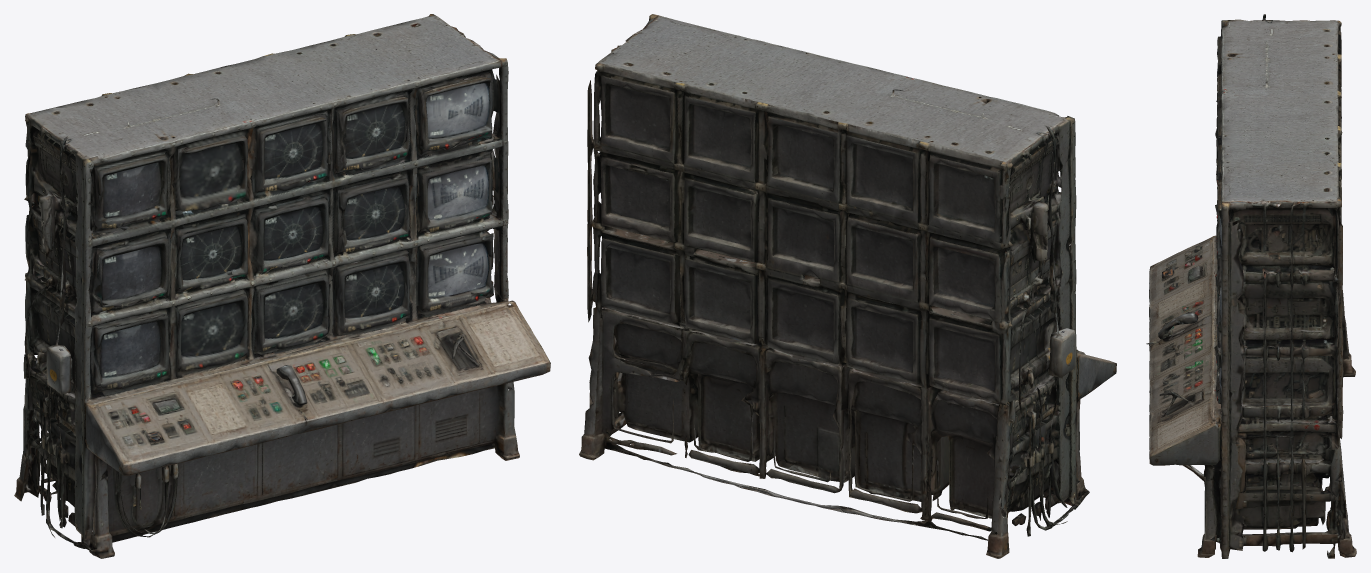
File: BKI_CCTVWall.fbx
3 views of the same model, side by side, from view 1: azimuth 30°, elevation 25°; view 2: azimuth 150°, elevation 25°; view 3: azimuth 270°, elevation 25° (orthographic). The views are drawn at different scales.
Visible parts, largest first — view 1: texture_mapping; view 2: texture_mapping; view 3: texture_mapping.
Part boxes in pixels (x1,y1,x2,y2): texture_mapping: (14,14,550,558); texture_mapping: (579,14,1116,558); texture_mapping: (1146,14,1356,558).
Size of the model in its own units: 0.9966 by 0.457 by 0.8669.
Materials: 1 (1 with a texture image).
